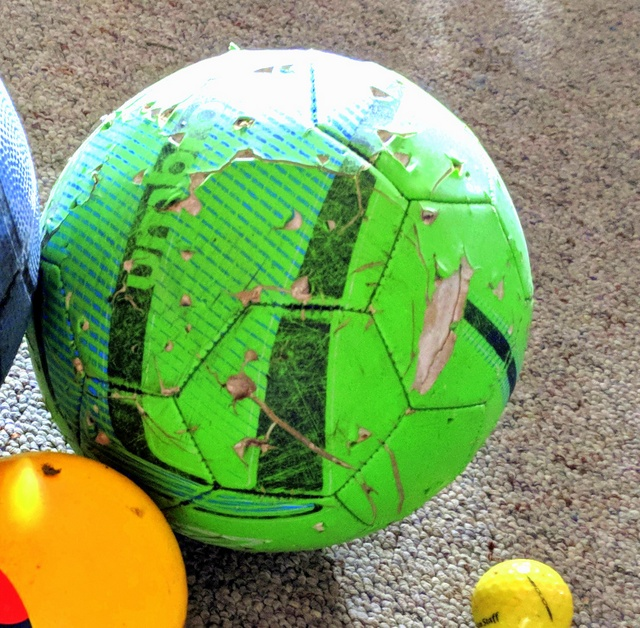ball: (29, 50, 534, 551)
